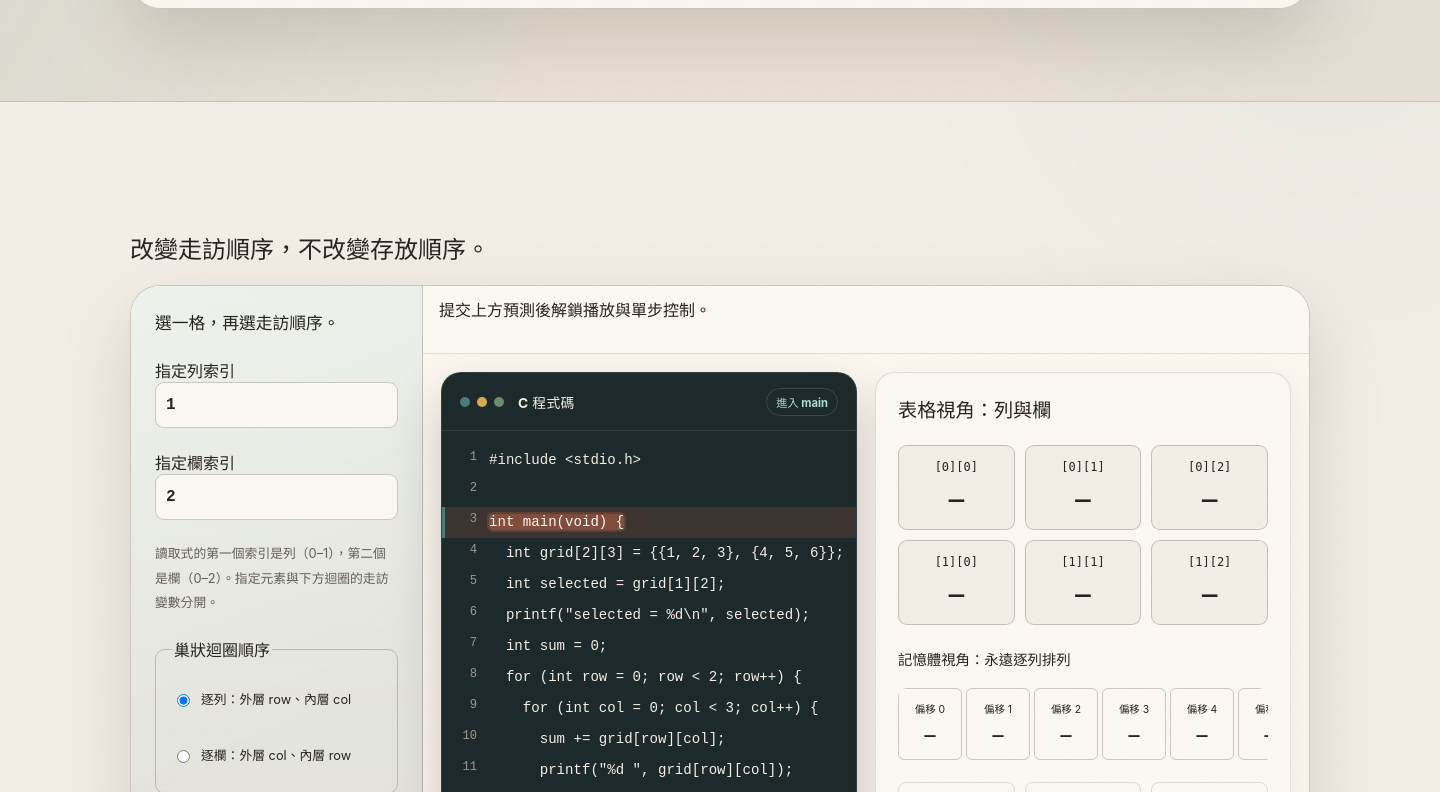
Test: blocks a column beyond its subarray even when the next row exists and does not save it
The image size is (1440, 792).
(page scrolled)
Replace the text in the number field labelled "指定列索引" with "0" at [276, 405], box [155, 382, 398, 428]
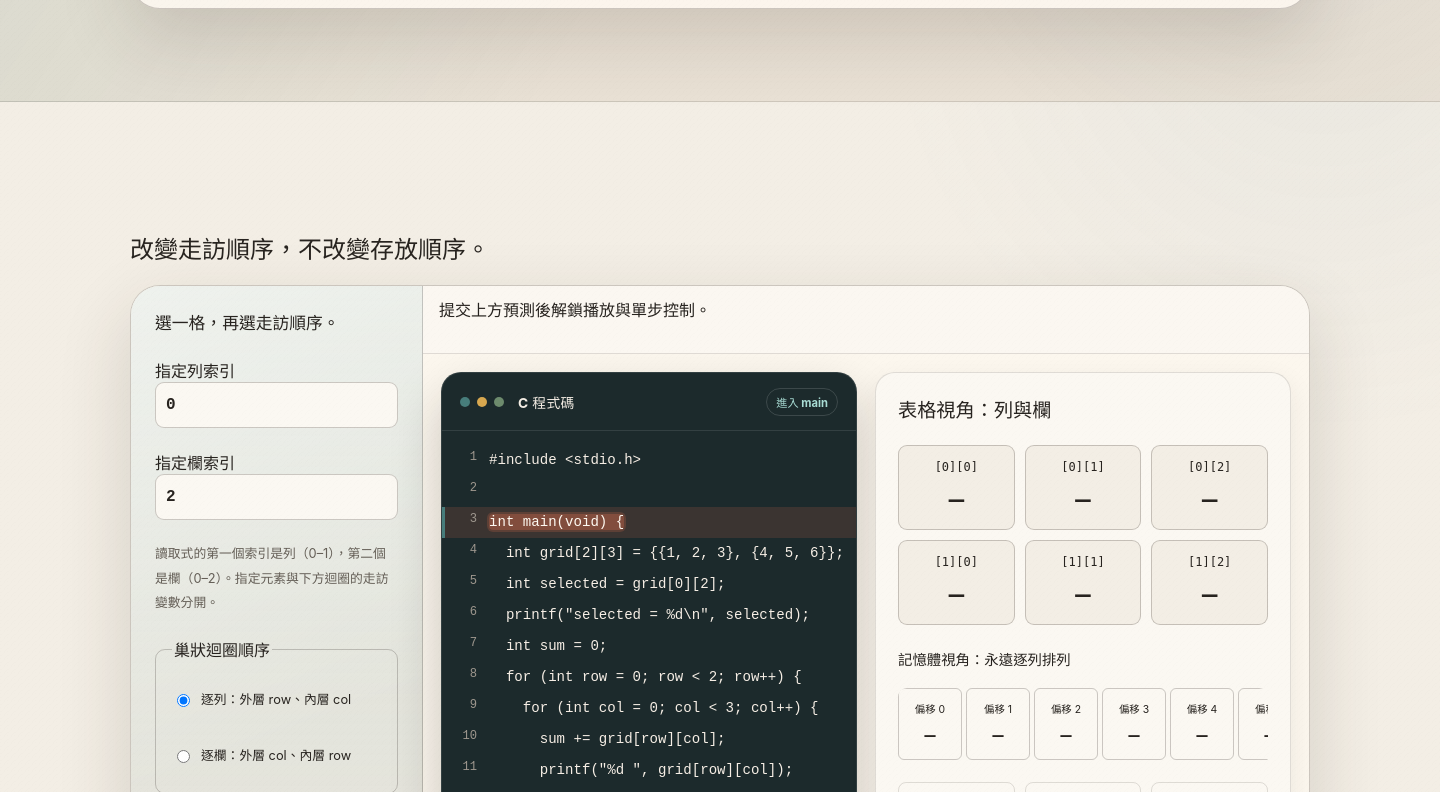
Replace the text in the number field labelled "指定欄索引" with "3" at [276, 497], box [155, 474, 398, 520]
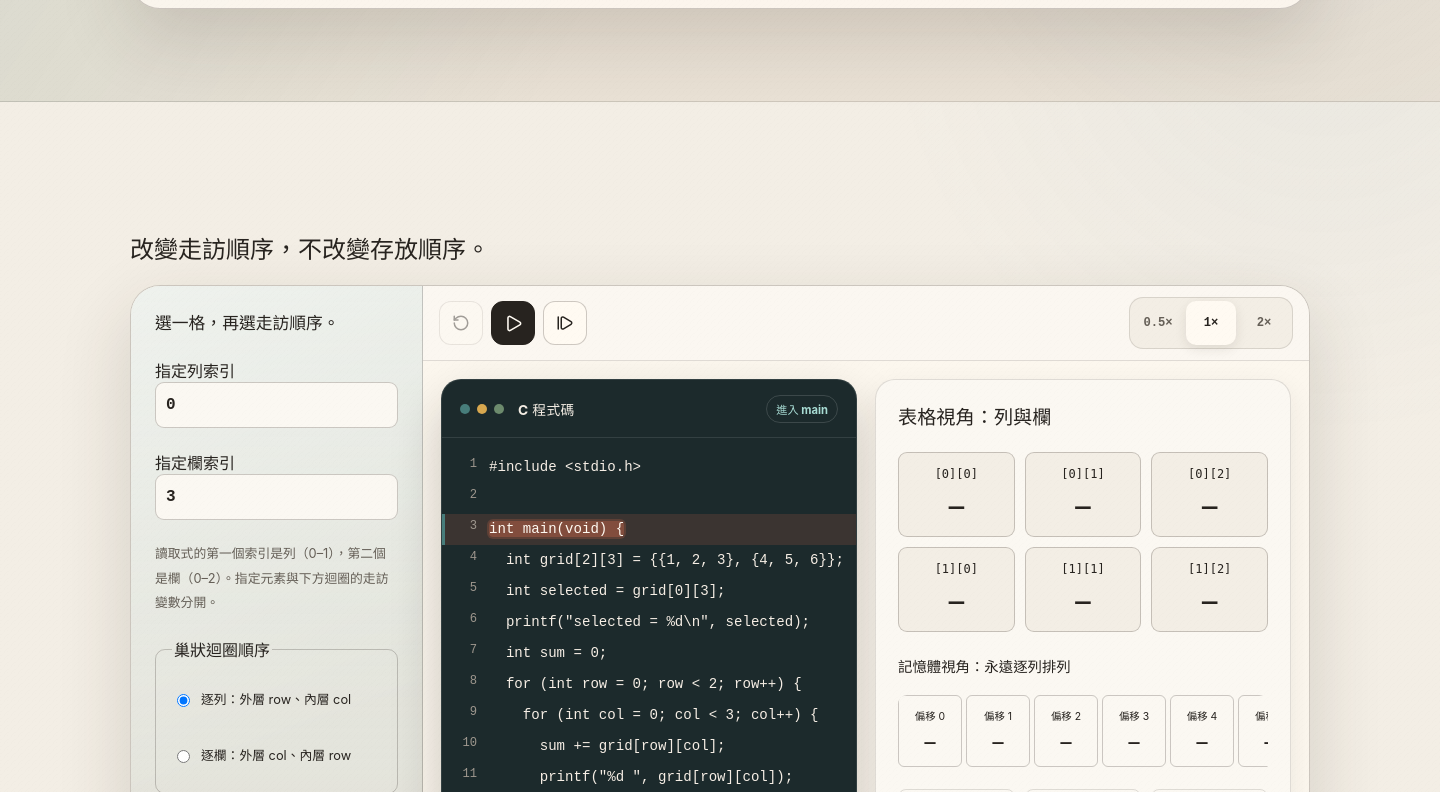
Click the button named "二維陣列執行：執行下一步".
click(565, 323)  # box [543, 301, 587, 345]
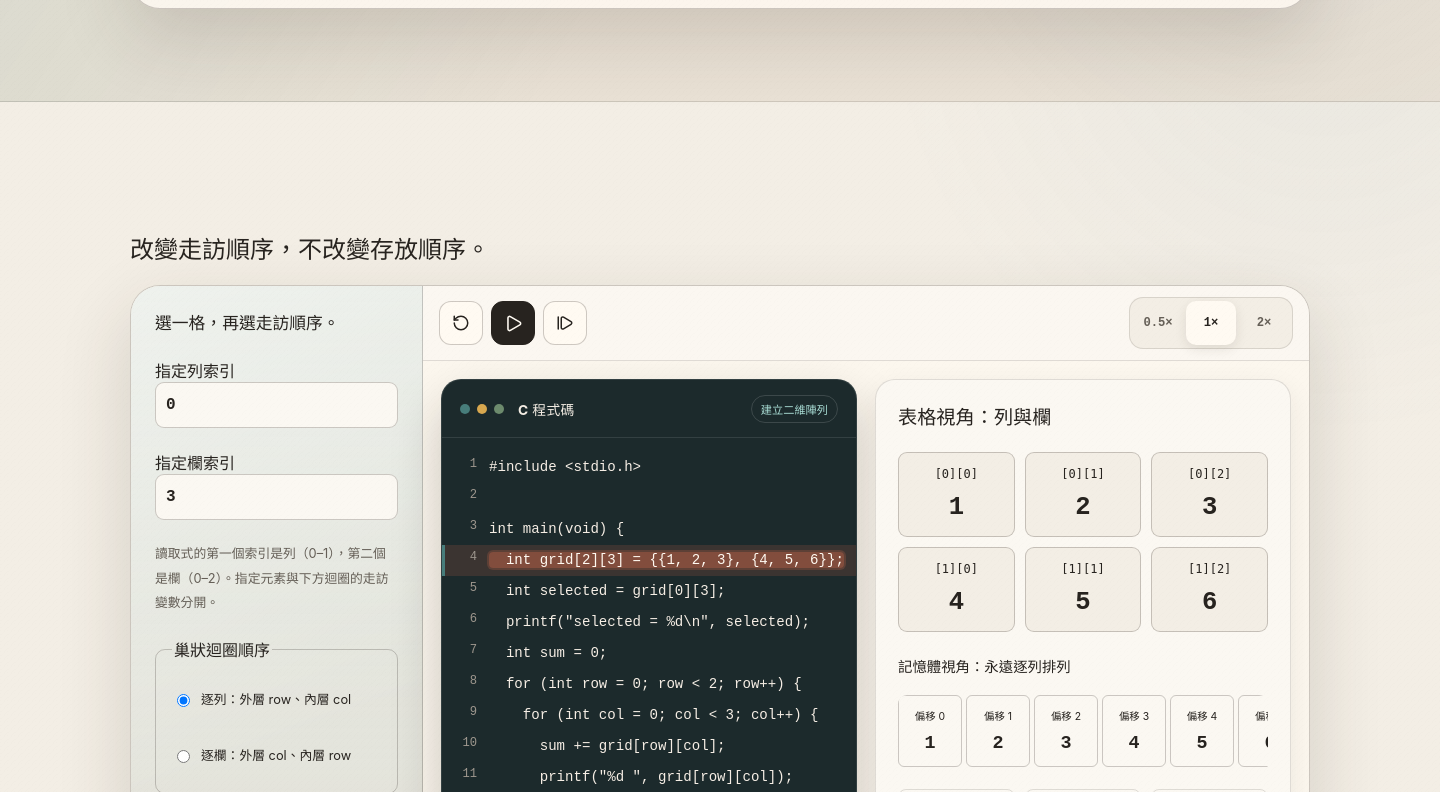
Click the button named "二維陣列執行：執行下一步".
click(565, 323)  # box [543, 301, 587, 345]
(page scrolled)
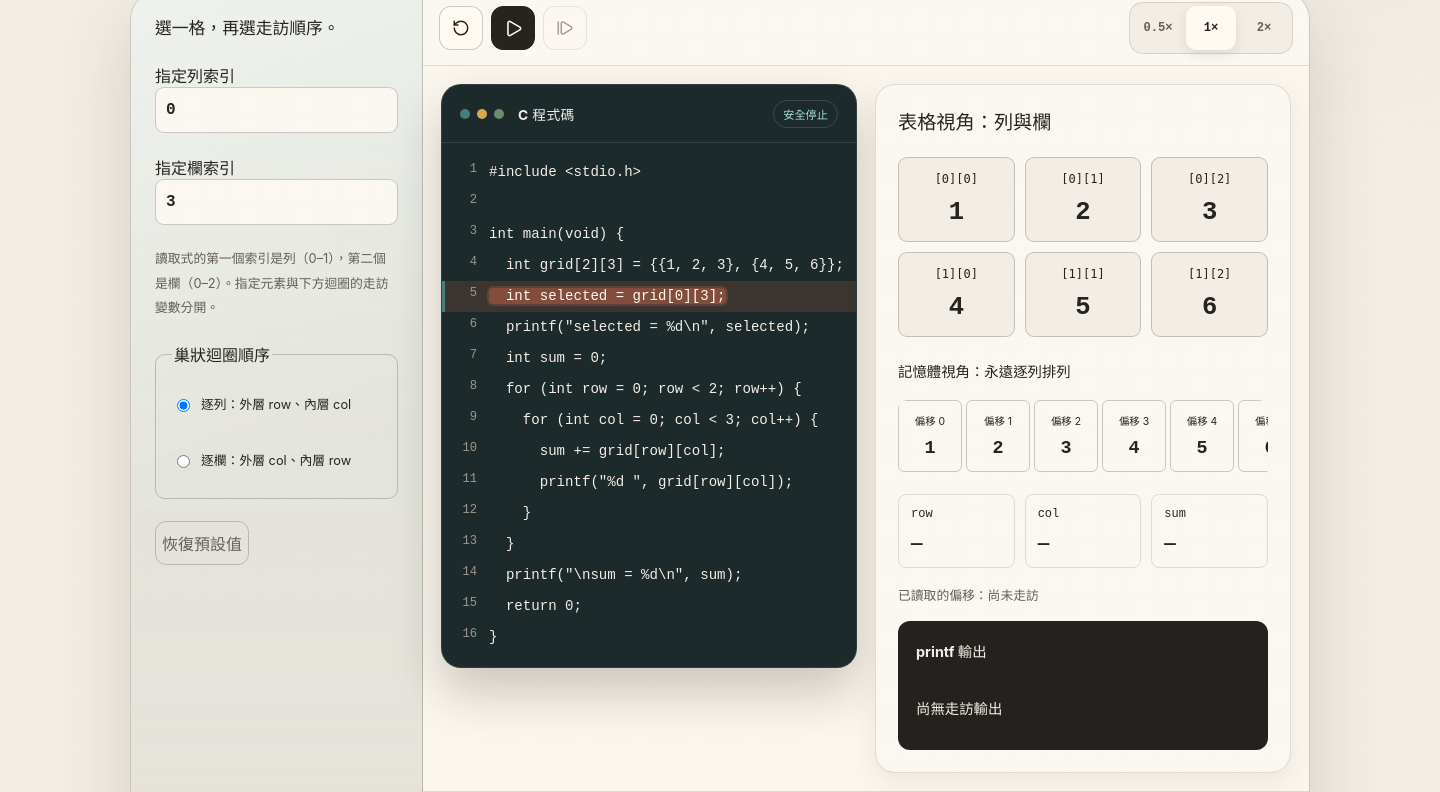
expect the element named "C 程式碼，目前執行第 5 行" is shown: met, box [442, 143, 856, 667]
